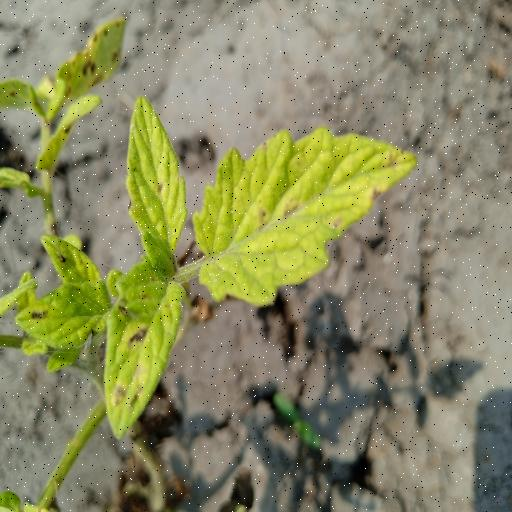Tomato_Brown_Spots: (191, 124, 418, 308), (105, 260, 188, 447), (124, 90, 192, 262)
